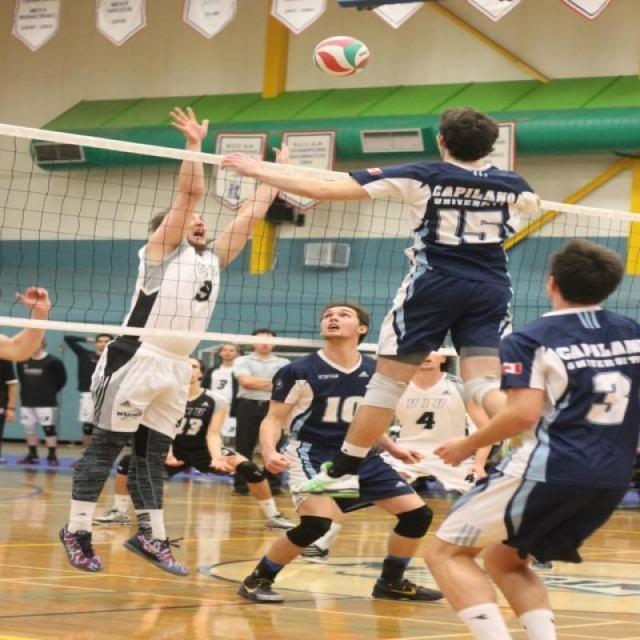volleyball: (309, 32, 372, 79)
